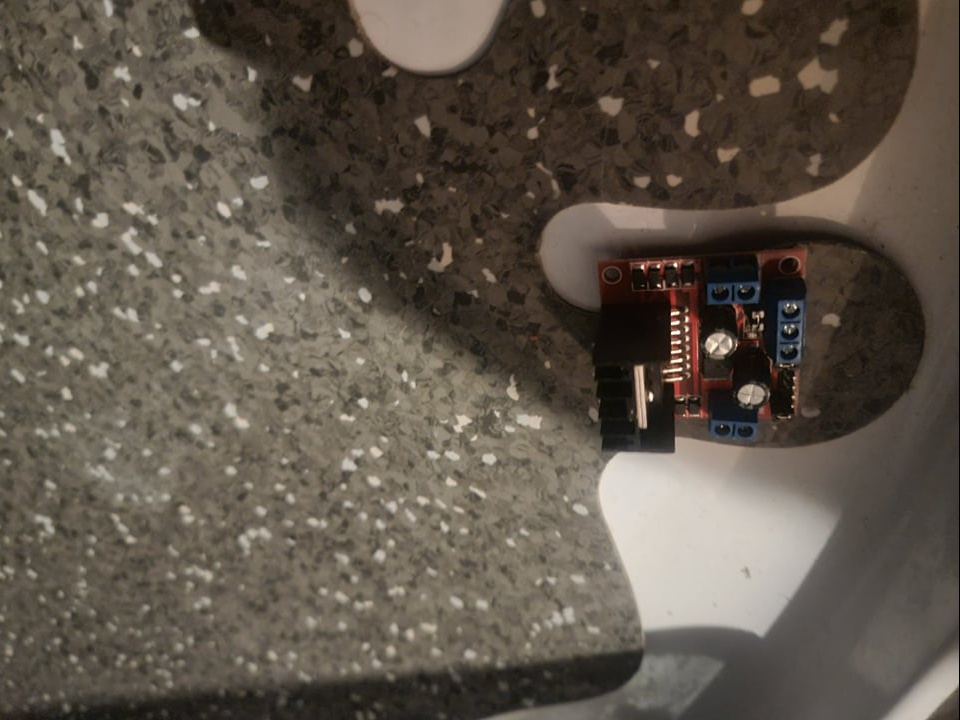MOTOR: (596, 240, 817, 458)
